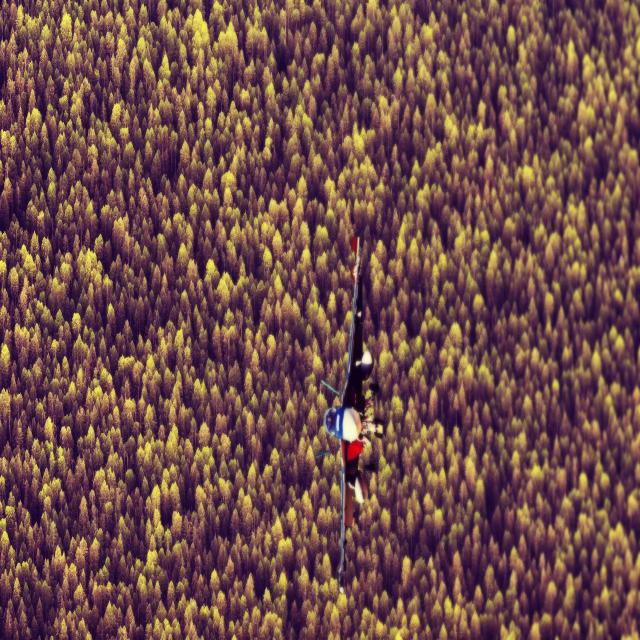airplane: (314, 234, 385, 594)
